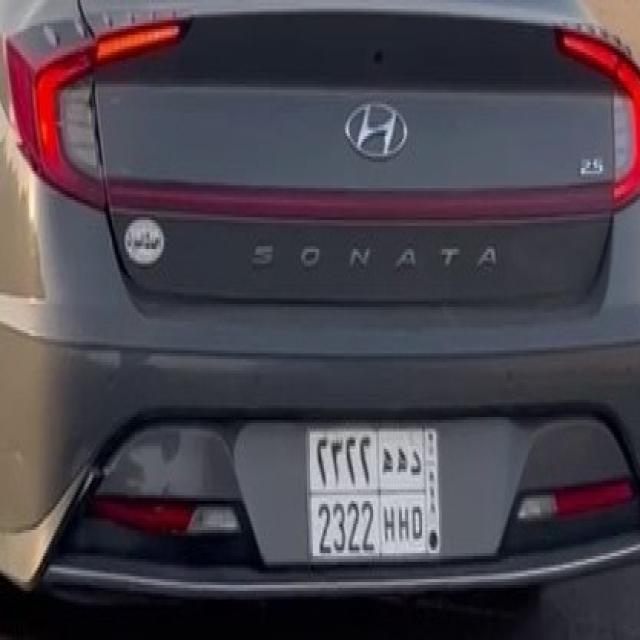Car-plate: (291, 384, 448, 565)
